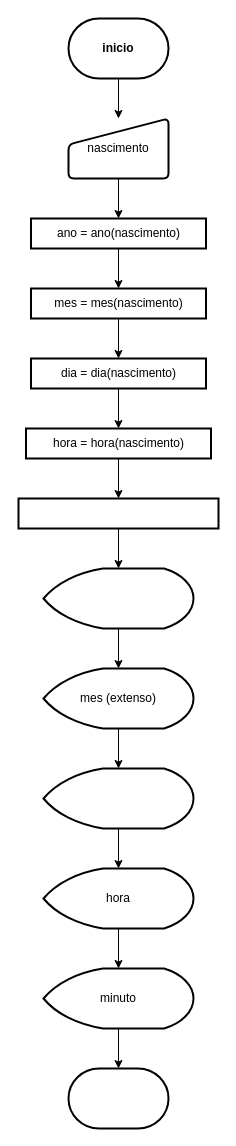
Image size: 236x1146. Some labels were removed from this diagram. The shapes that lost their labels are listed below. From the top down, each one's centre as x and y in pixels, then its label:
the point at 118,513: minuto = minuto(nascimento)
the point at 118,598: ano
the point at 118,798: dia
the point at 118,1098: fim
